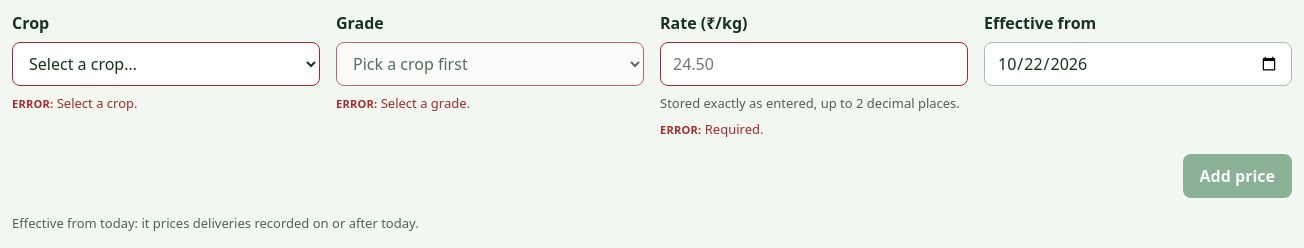
Test case: PriceEntryForm › keeps adding disabled until the entry is valid and rejects excess precision
Expected: the button "Add price" is disabled, [1183, 154, 1292, 198]
Select "Paddy" in the dropdown labelled "Crop" at {"x": 166, "y": 64}, box [12, 42, 320, 86]
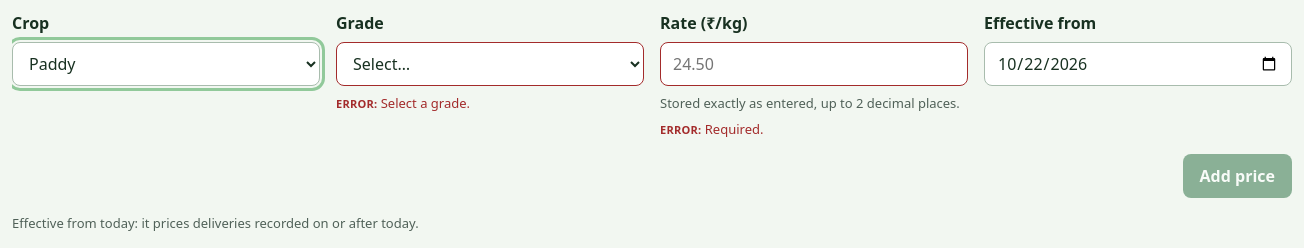
Select "A" in the dropdown labelled "Grade" at {"x": 490, "y": 64}, box [336, 42, 644, 86]
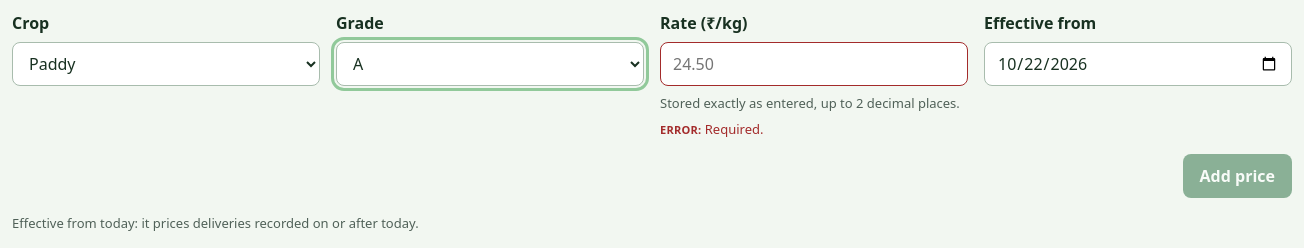
Type "24.555" into the field labelled "Rate (₹/kg)".
click(814, 64); type("24.555")  # box [660, 42, 968, 86]
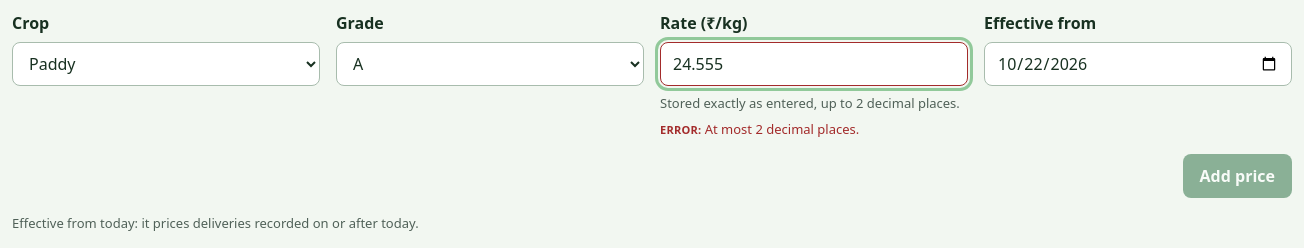
Expected: the button "Add price" is disabled, [1183, 154, 1292, 198]
Result: the text "Error: At most 2 decimal places." is shown at [660, 120, 859, 138]
